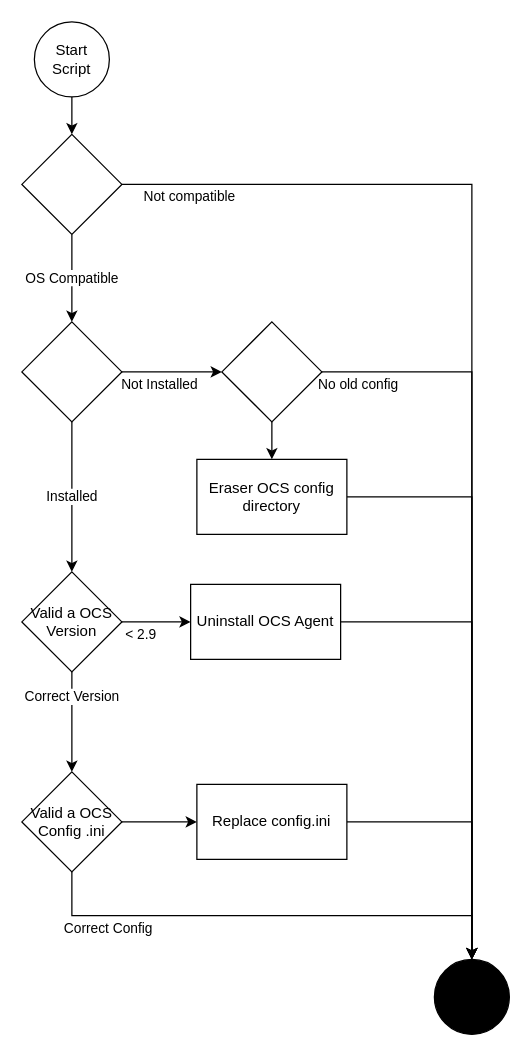
This 531x1056 diagram has some shape labels left out. Here are the shapes that lost their labels. From the top down, the centre of each, then its label:
(x=71, y=183): Valid OS
(x=71, y=371): Valid OCS Installed
(x=271, y=371): Exists old OCS config
